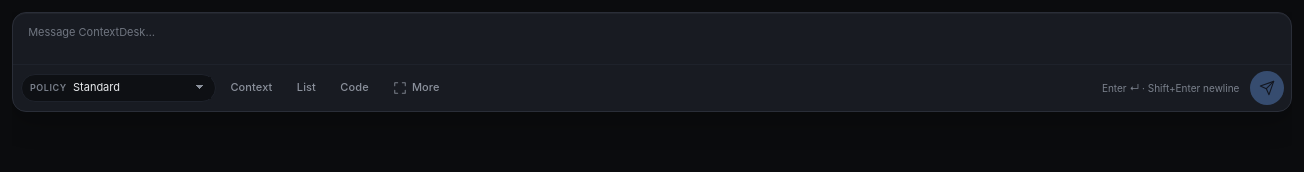
Test: Composer Triage Policy V2 control › shows all modes and changing mode performs no send work
The width and height of the screenshot is (1304, 172).
Select "Enhanced · unavailable" in the dropdown named "Triage Policy V2 mode" at (141, 88), box x1=71 y1=77 x2=211 y2=99
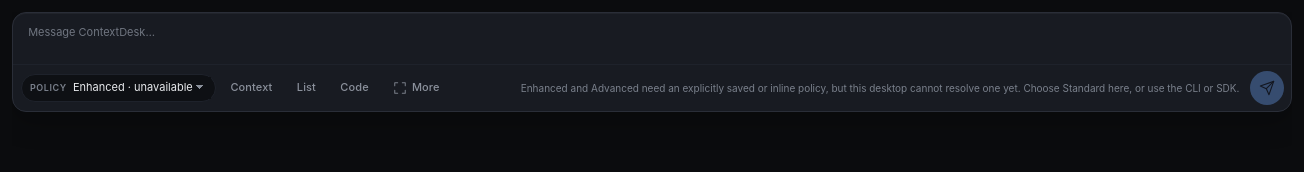
Check: the button named "Send" is disabled, box x1=1250 y1=71 x2=1284 y2=105
Check: the text "Choose Standard here" is shown, box x1=521 y1=82 x2=1239 y2=94
